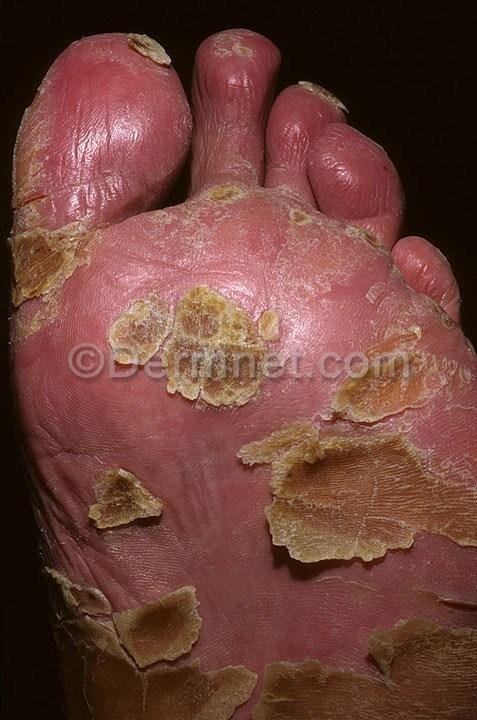Eczema: (25, 552, 289, 720), (219, 417, 477, 576), (99, 266, 308, 431), (270, 581, 477, 720), (2, 99, 91, 349), (319, 320, 477, 440), (72, 440, 201, 553), (283, 195, 403, 257), (115, 19, 188, 92), (198, 160, 269, 230), (296, 73, 364, 123), (208, 23, 274, 71)
